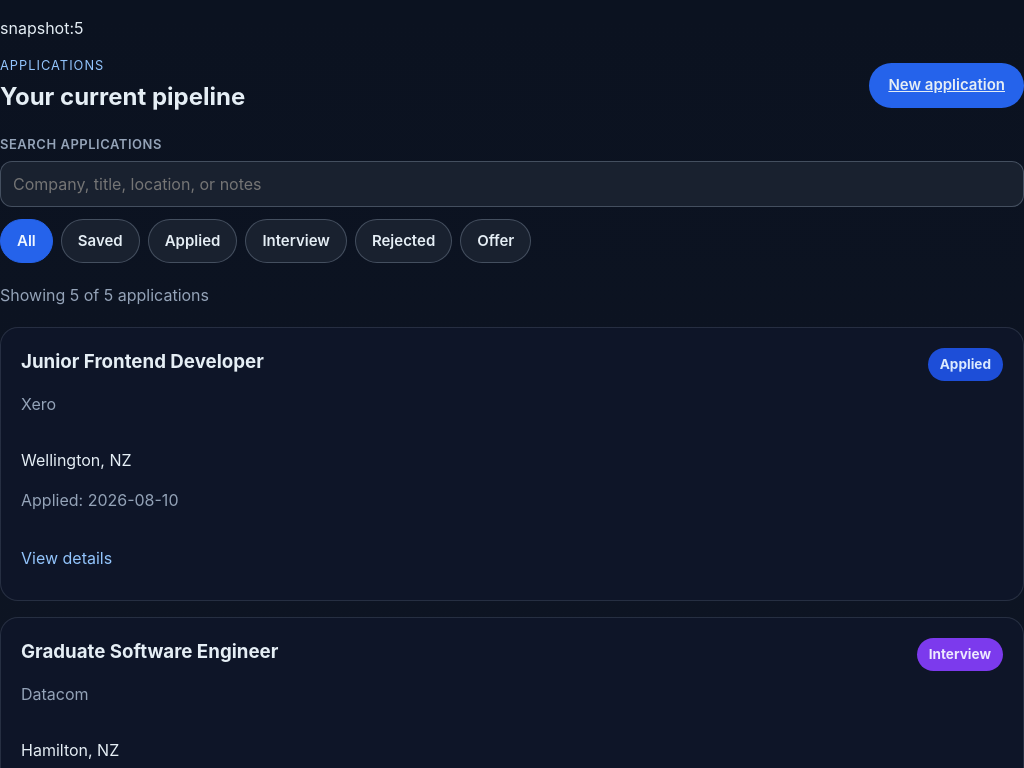
it: a filter does not touch the data › narrows the rendered cards without shrinking the provider snapshot
The width and height of the screenshot is (1024, 768).
Expected: the text "Datacom" is shown, [21,684,89,704]
Click the button "Rejected" at [404, 241], box [355,219,452,263]
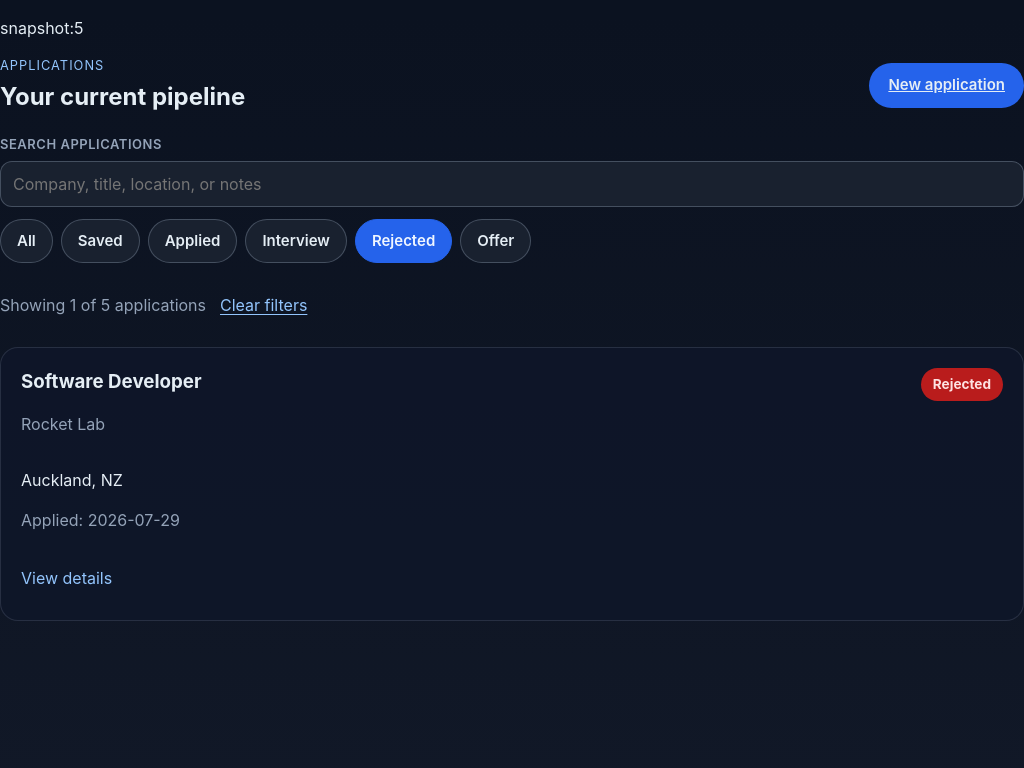
Expected: the text with test id "snapshot" reads "snapshot:5", [0,18,84,38]
Type "zzz-nothing-here" into the search field labelled "Search applications" at [512, 184], box [0,161,1023,207]
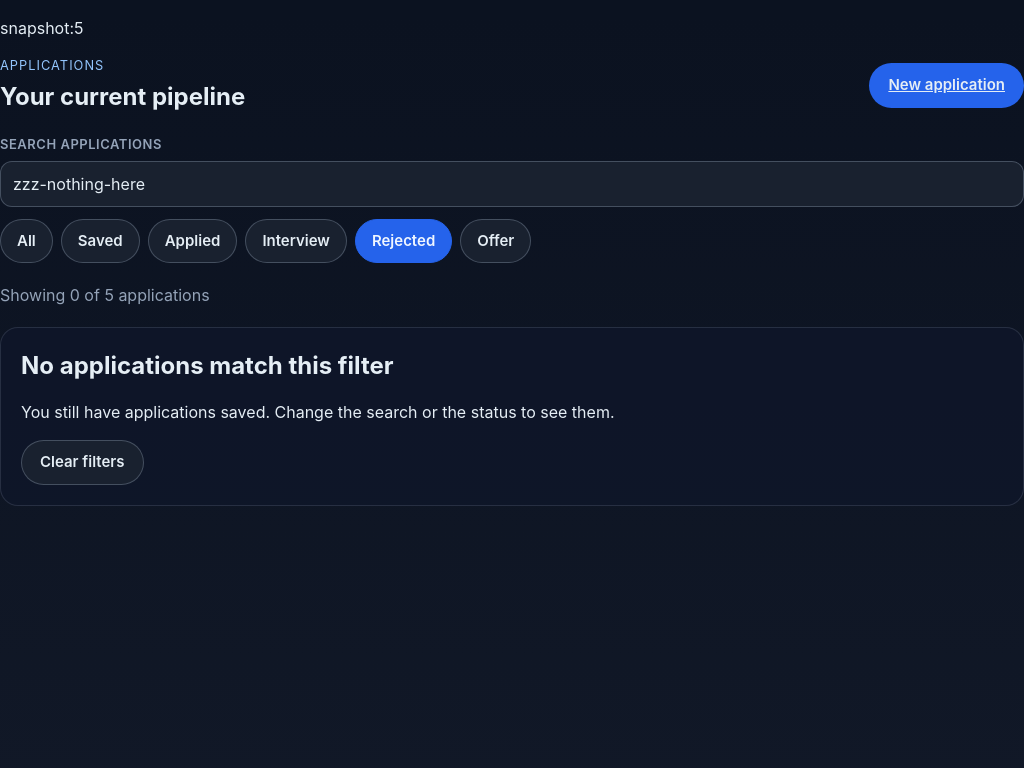
Expected: the text with test id "snapshot" reads "snapshot:5", [0,18,84,38]
Expected: the message shows "0 of 5 applications", [0,283,210,307]
